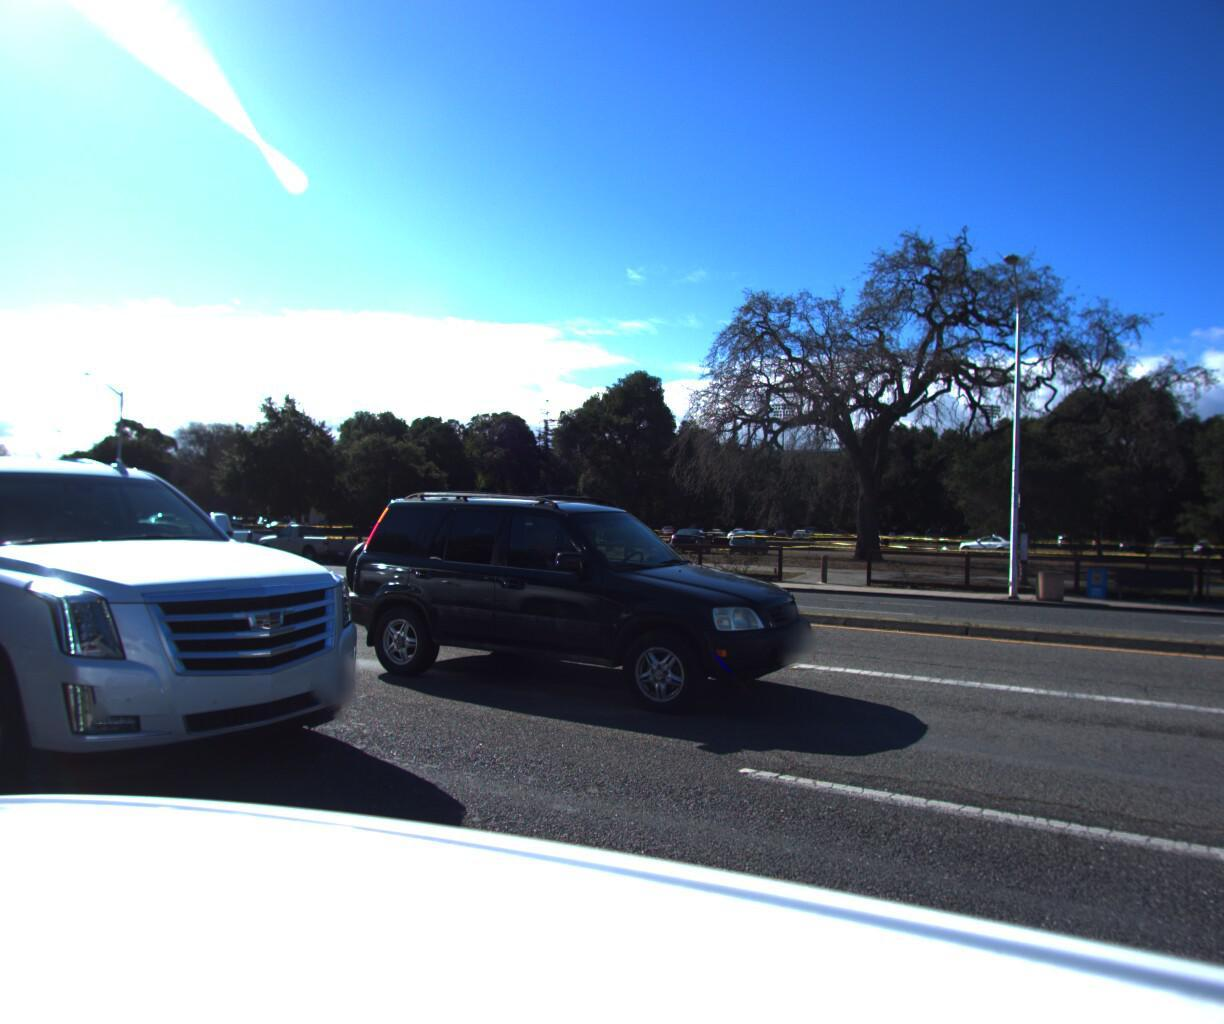car: (0, 408, 400, 863), (315, 485, 837, 738), (169, 511, 292, 560), (252, 516, 365, 564)
